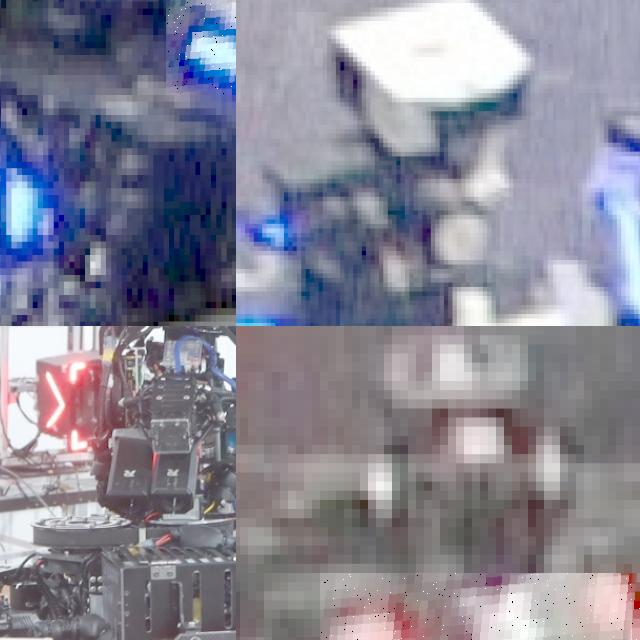B3: (236, 212, 292, 326)
B4: (166, 0, 236, 95)
R3: (320, 573, 640, 640)
